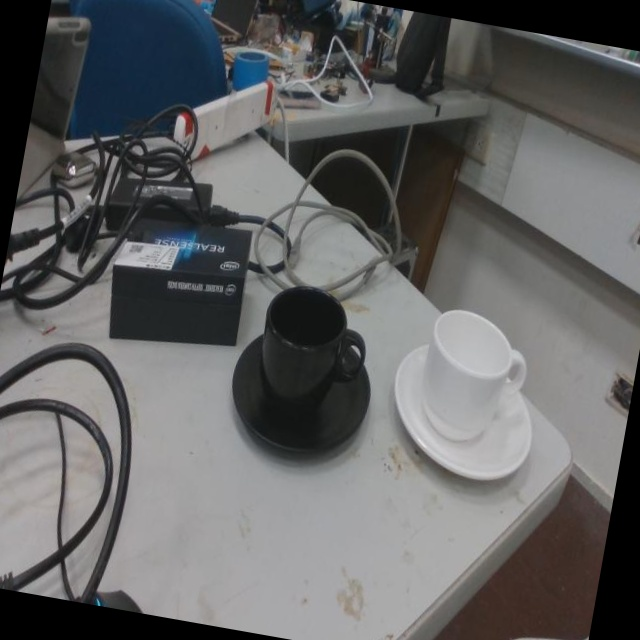black: (232, 282, 376, 466)
white: (392, 307, 541, 485)
